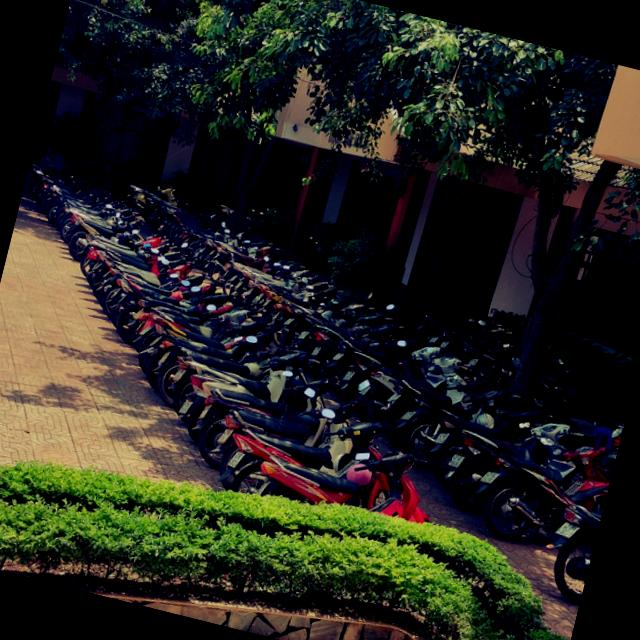Vehicle: (0, 123, 640, 537), (192, 346, 384, 507), (214, 379, 408, 529), (230, 408, 446, 540), (464, 414, 618, 561), (438, 396, 594, 536), (332, 298, 472, 426), (162, 310, 301, 438), (188, 349, 332, 468), (382, 364, 514, 479), (532, 444, 616, 604), (96, 248, 208, 339), (66, 214, 140, 272)
